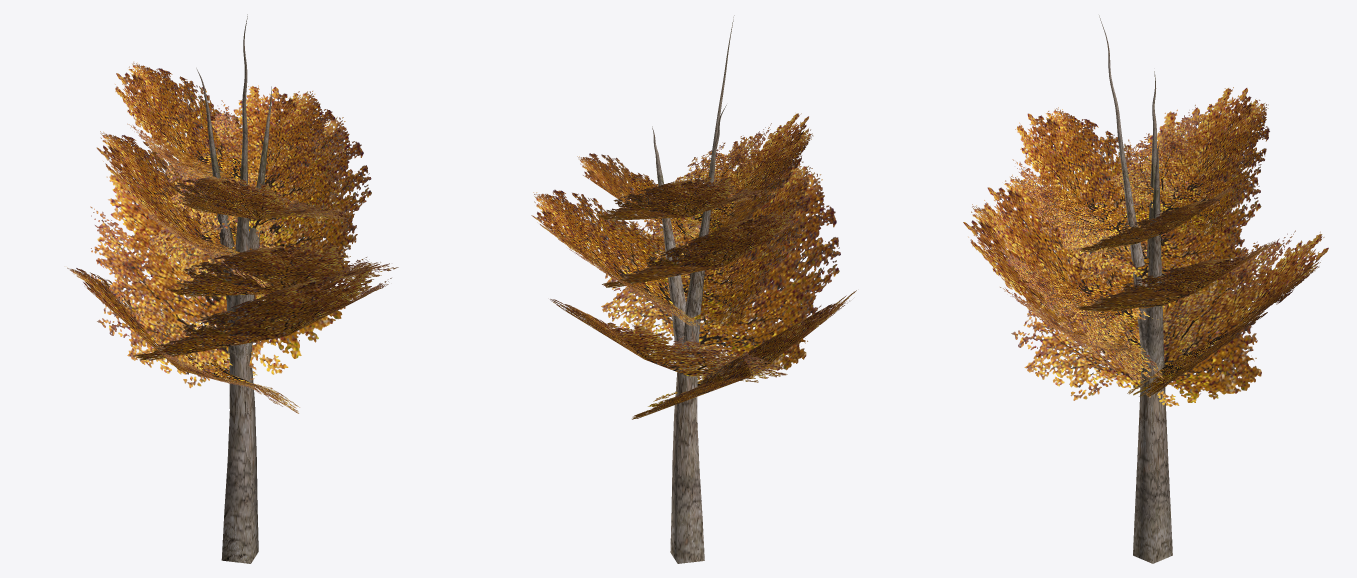
The model's file is tree0.glb.
The picture shows the model from 3 angles, left to right: view 1: azimuth 30°, elevation 25°; view 2: azimuth 150°, elevation 25°; view 3: azimuth 270°, elevation 25°; orthographic projection. The views are drawn at different scales.
Parts seen in each view (by area): view 1: tree0-col; view 2: tree0-col; view 3: tree0-col.
Boxes of the visible parts, left/top/right/bottom form: tree0-col: left=67, top=14, right=398, bottom=563; tree0-col: left=531, top=15, right=856, bottom=563; tree0-col: left=963, top=15, right=1328, bottom=563.
Size of the model in its own units: 9.29 by 14.31 by 9.69.
2 materials, 2 textured.
